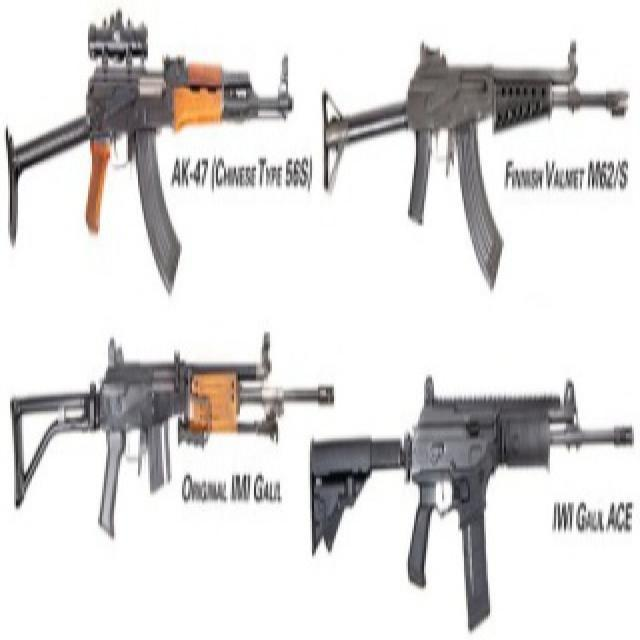weapon: (306, 32, 628, 288), (300, 386, 634, 632), (0, 12, 292, 292), (0, 347, 338, 538)
